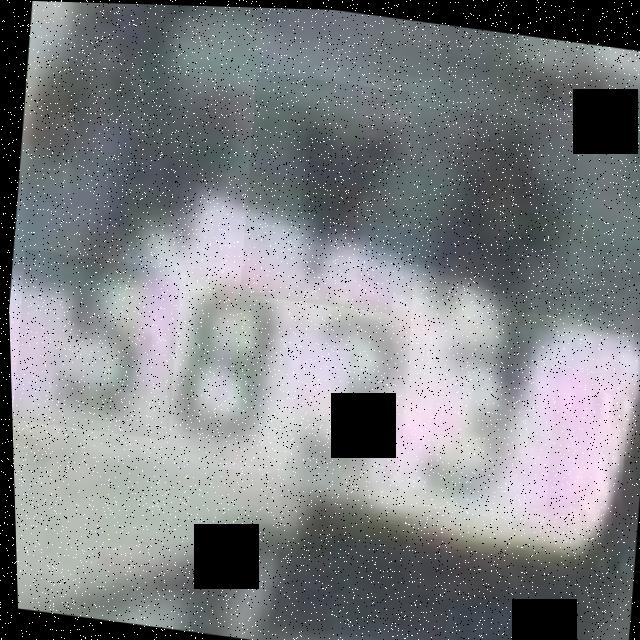3: (250, 265, 444, 500), (388, 278, 565, 521)
5: (6, 248, 183, 439)
8: (135, 241, 309, 475)
N: (387, 100, 582, 314)
Y: (232, 69, 413, 312)
